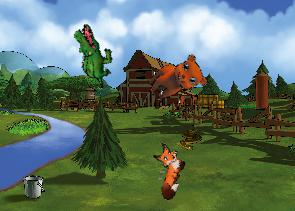bear: (142, 47, 212, 115)
crocodile: (59, 21, 126, 89)
fox: (141, 141, 191, 201)
